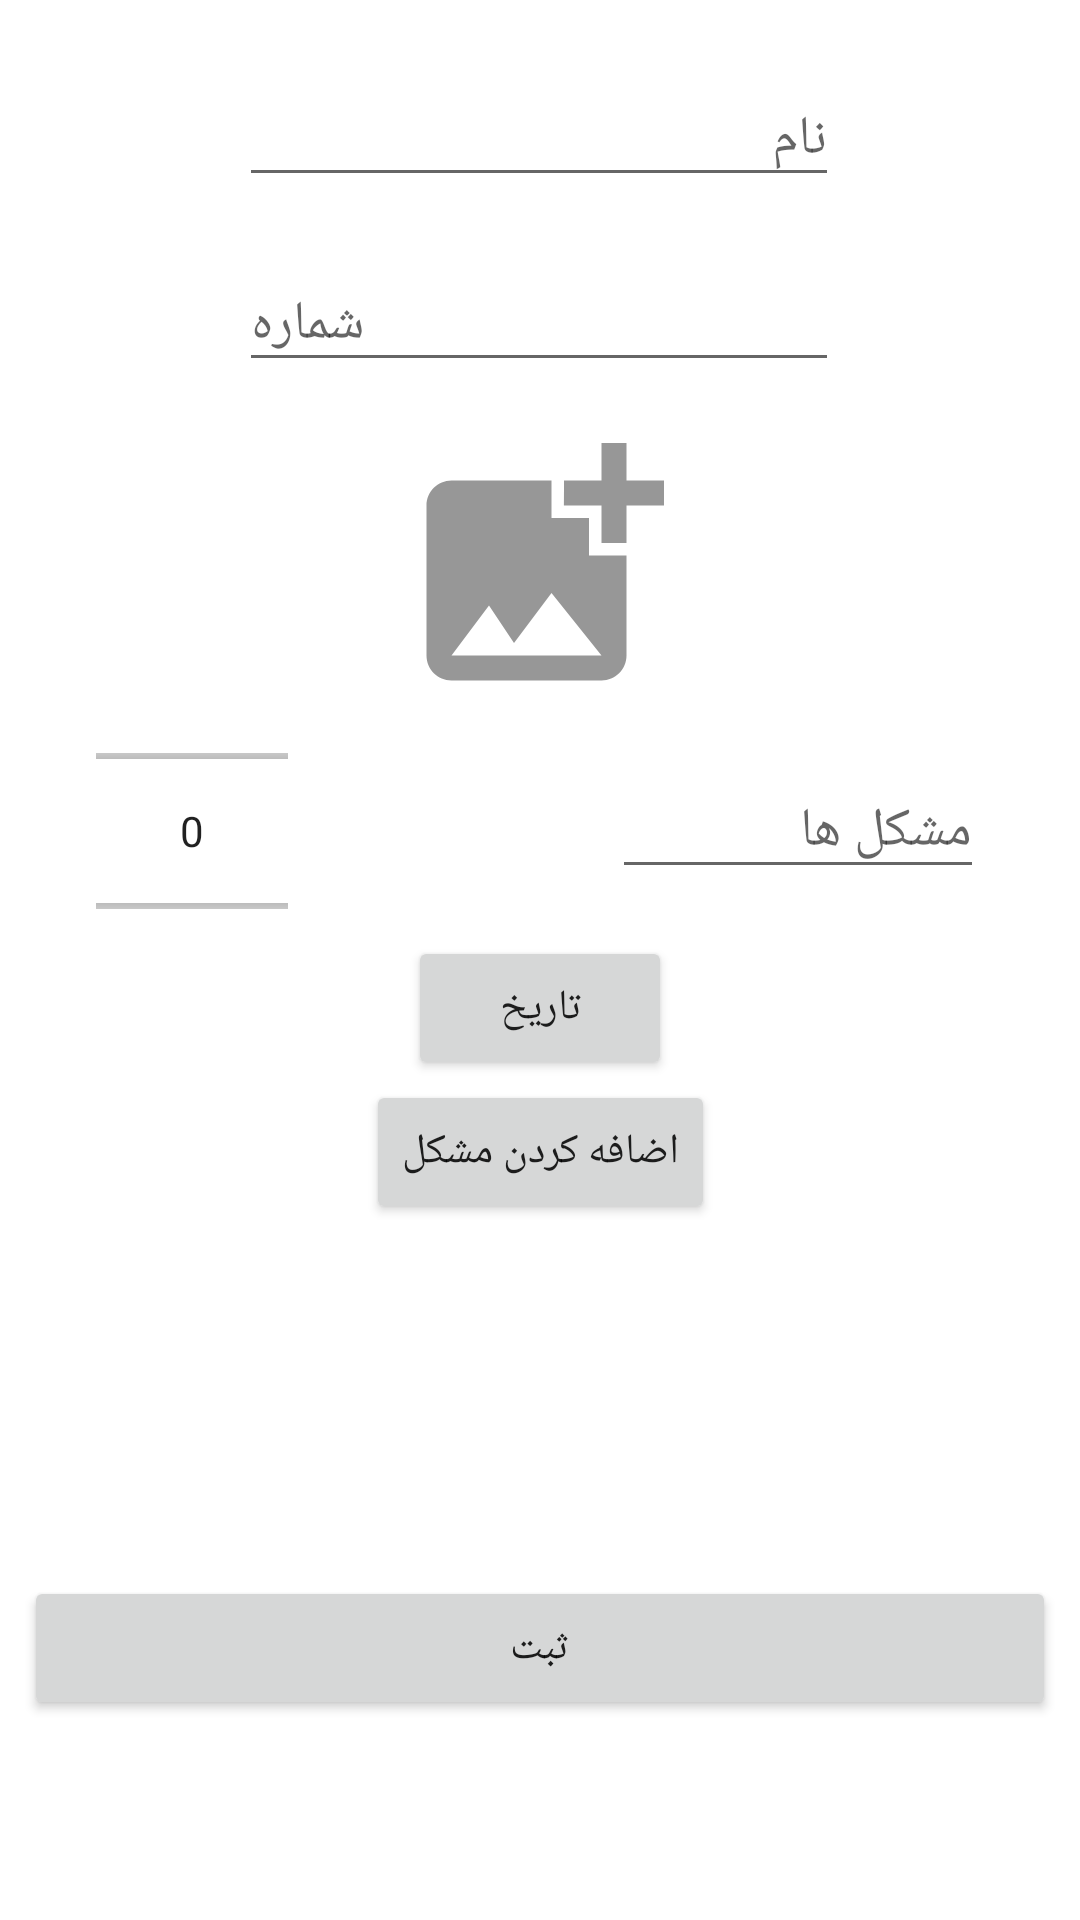

Where to tap for icons on this 1080*1920 app screen, as point (x, y):
add photo alternate: point (545, 562)
